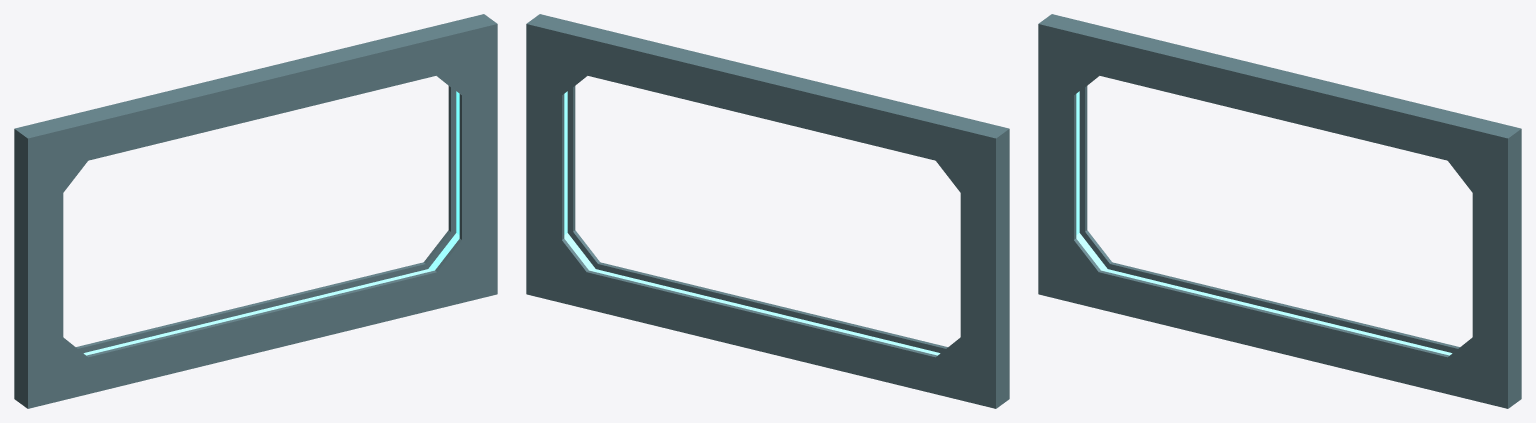
The model's file is W1_WallWindow1A_4m.fbx.
3 views of the same model, side by side, from view 1: azimuth 30°, elevation 25°; view 2: azimuth 150°, elevation 25°; view 3: azimuth 330°, elevation 25° (orthographic).
Visible parts, largest first — view 1: W1_WallWindow1A_4m.001; view 2: W1_WallWindow1A_4m.001; view 3: W1_WallWindow1A_4m.001.
Part boxes in pixels (box(x1,y1,x2,y2)): W1_WallWindow1A_4m.001: box(14, 14, 497, 408); W1_WallWindow1A_4m.001: box(526, 14, 1009, 408); W1_WallWindow1A_4m.001: box(1038, 14, 1521, 408).
Bounding box in the file's own units: 4 × 2.2 × 0.2.
